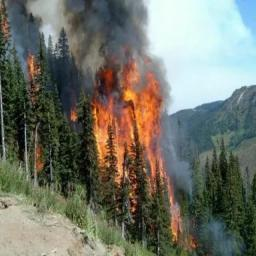Heavy smoke: (1, 1, 195, 138)
Large fire: (92, 61, 198, 249)
Small fire: (24, 53, 46, 95), (32, 145, 48, 176), (67, 106, 80, 125)
